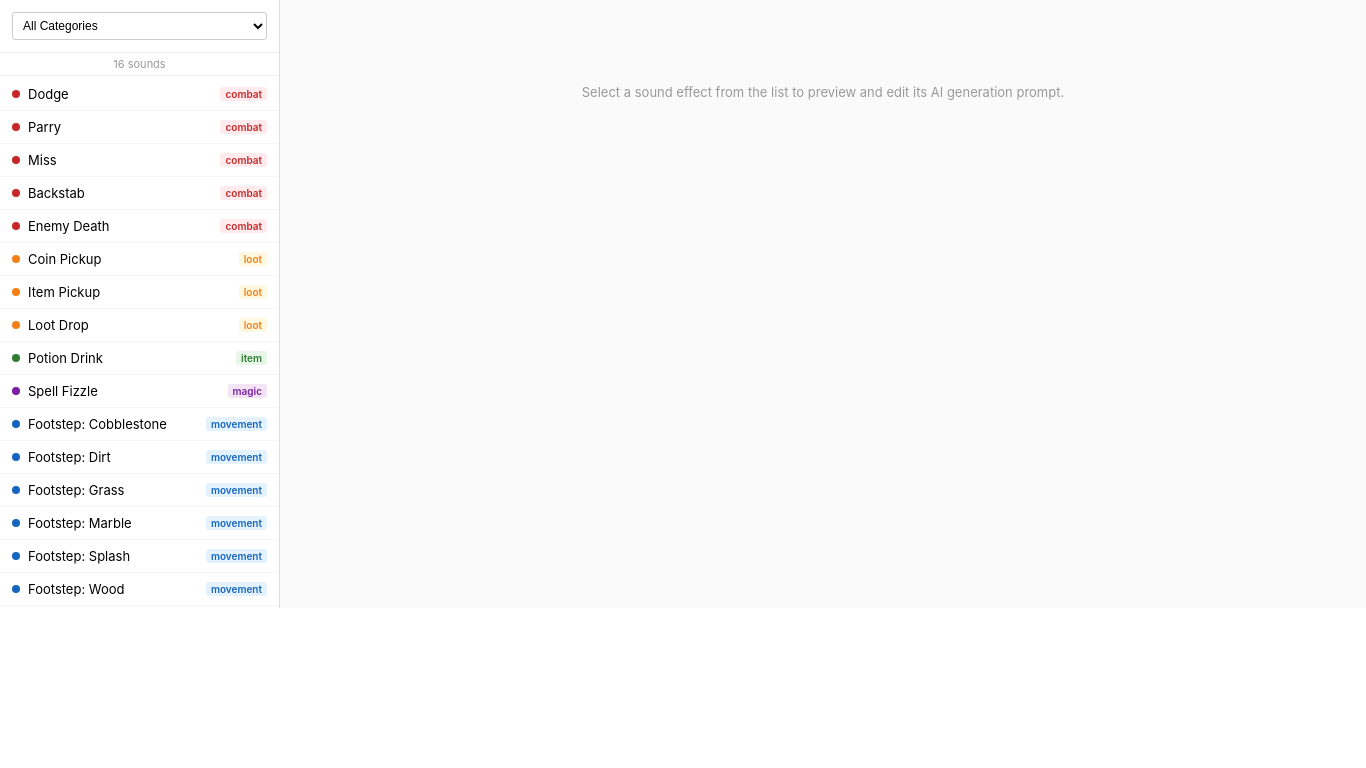
Test: DefaultSfxEditor › clicking an entry opens detail panel
Expected: the text "16 sounds" is shown, [0,53,279,76]
Click the text "Dodge": (48, 94) [28,86,69,102]
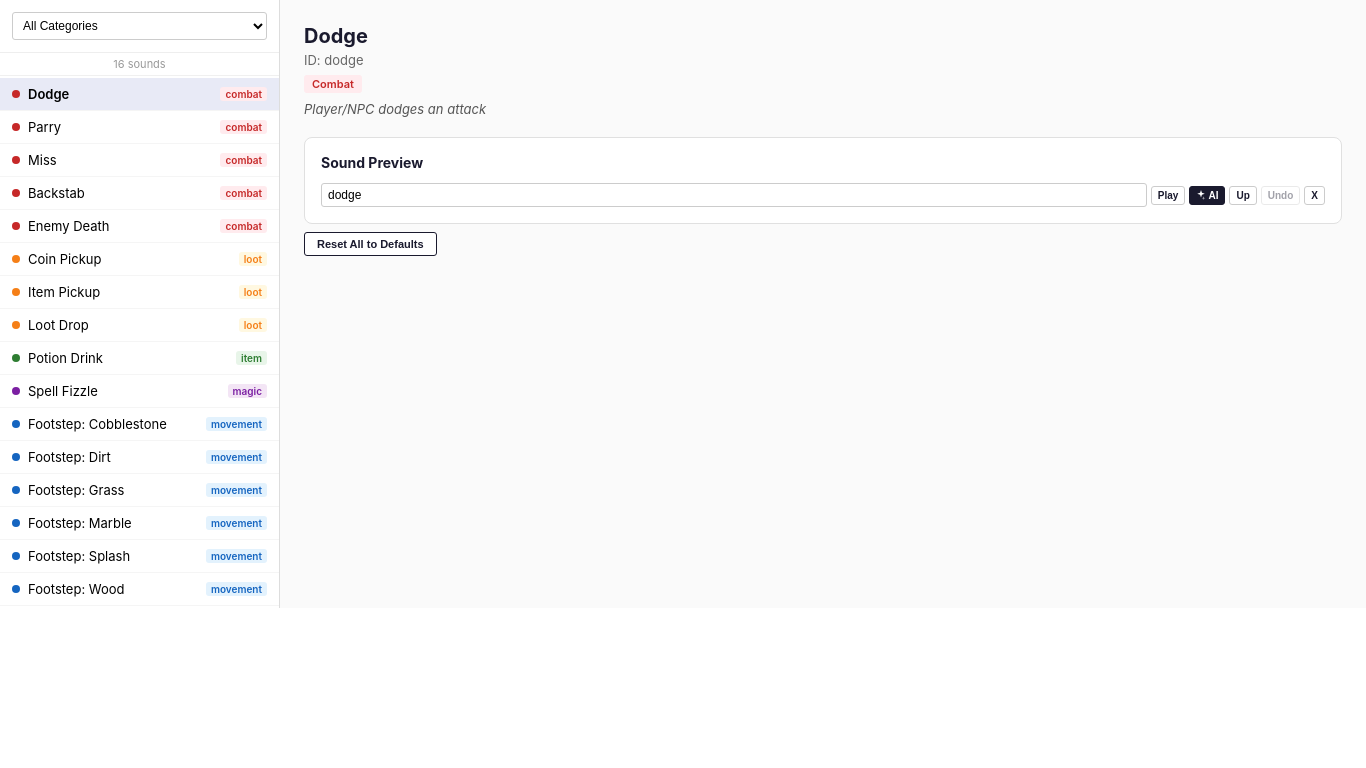
Expected: the text "ID: dodge" is shown, [304,52,364,68]
Expected: the text "Player/NPC dodges an attack" is shown, [304,101,486,117]
Expected: the text "Sound Preview" is shown, [321,154,423,171]
